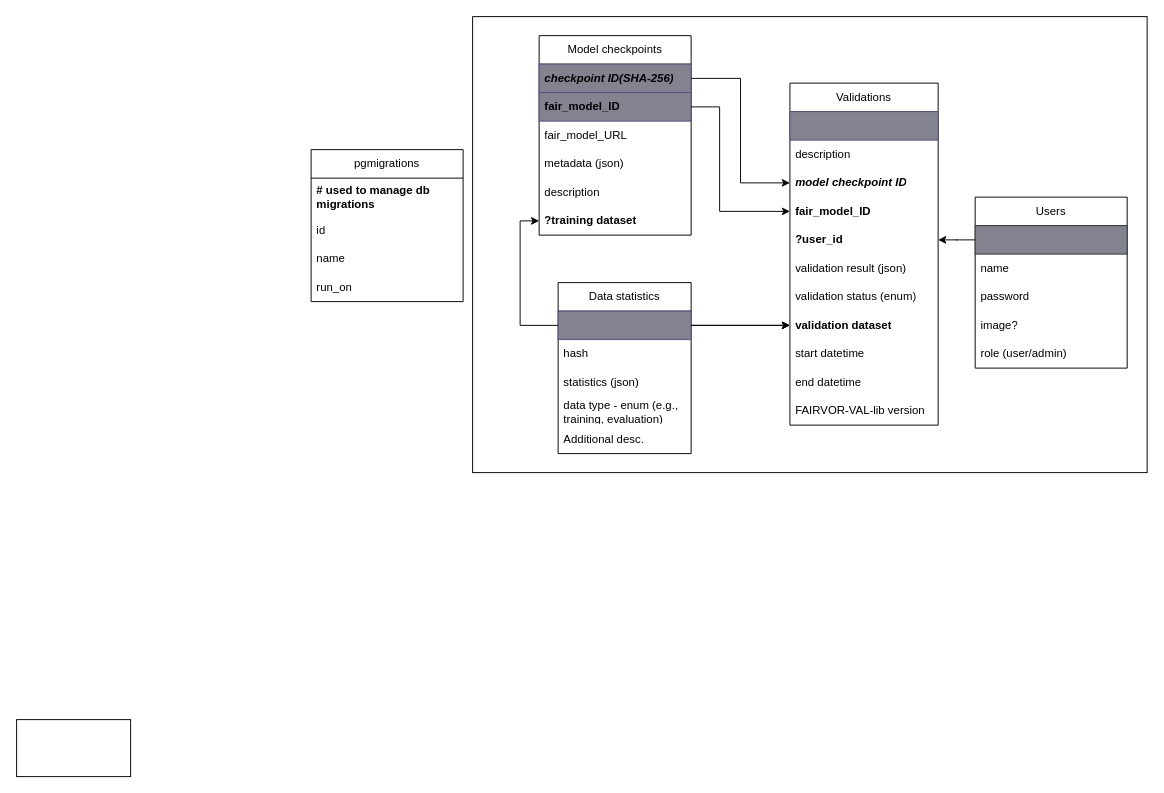
The diagram is 1164 pixels wide and 793 high, and some of its shapes have lost their labels. The centre of each missing label's shape, as x and y in pixels:
"ds_id" goes at (624,325).
"user_id" goes at (1050,239).
"val_ID" goes at (863,125).
